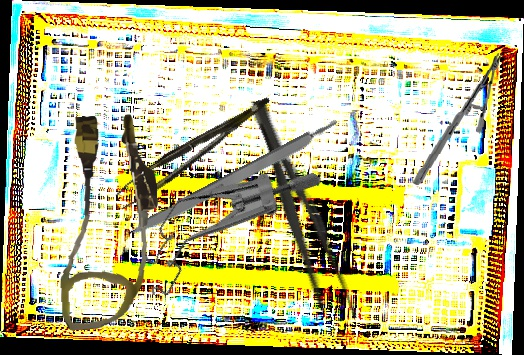Cannula: (48, 111, 167, 332)
Dressing Forceps: (236, 94, 364, 330)
Needle Holder: (413, 47, 503, 191)
Scalpel Handle: (126, 117, 342, 243)
Speculum: (120, 115, 326, 339)
Tissue Forceps: (107, 96, 282, 211)
